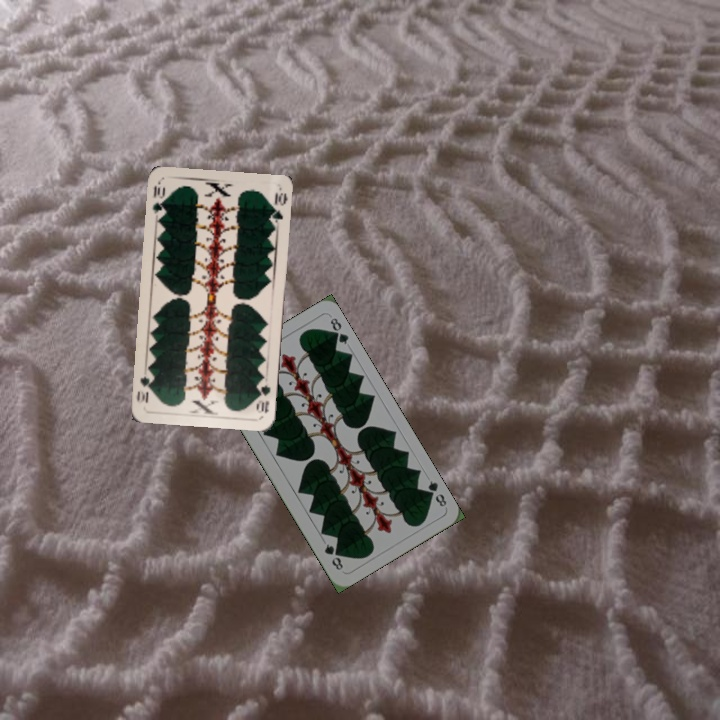G10: (148, 182, 168, 220), (254, 381, 273, 416)
G8: (421, 476, 449, 509)
